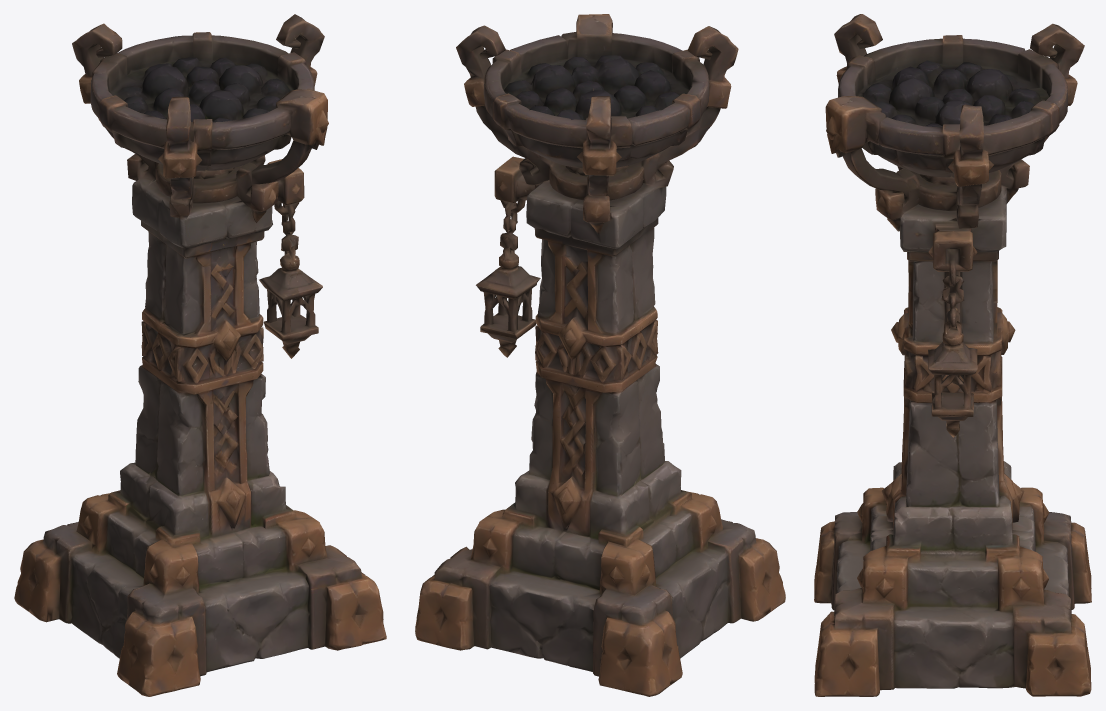
Rendered from hub_pillar_brazier.glb.
3 renders of one model, left to right at view 1: azimuth 30°, elevation 25°; view 2: azimuth 150°, elevation 25°; view 3: azimuth 270°, elevation 25°, orthographic. The views are drawn at different scales.
Visible parts, largest first — view 1: tripo_node_5ceb29d8-7621-4d17-a59e-7afe753b5c92; view 2: tripo_node_5ceb29d8-7621-4d17-a59e-7afe753b5c92; view 3: tripo_node_5ceb29d8-7621-4d17-a59e-7afe753b5c92.
Part boxes in pixels (x1,y1,x2,y2): tripo_node_5ceb29d8-7621-4d17-a59e-7afe753b5c92: [14, 14, 386, 696]; tripo_node_5ceb29d8-7621-4d17-a59e-7afe753b5c92: [415, 14, 785, 696]; tripo_node_5ceb29d8-7621-4d17-a59e-7afe753b5c92: [814, 14, 1091, 696].
Size of the model in its own units: 0.4577 by 1 by 0.4289.
Materials: 1 (1 with a texture image).
